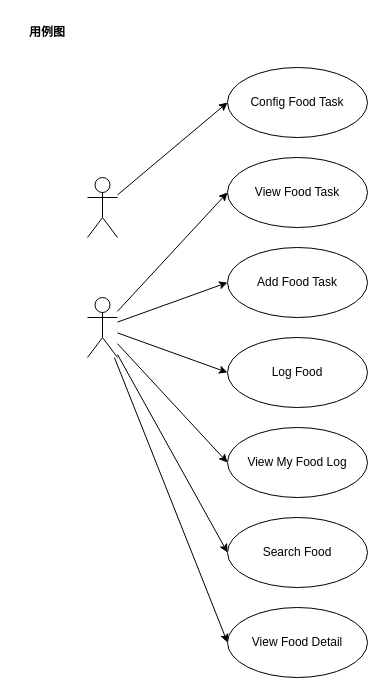
This 385x695 diagram has some shape labels left out. The shapes that lost their labels are listed below. From the top down, each one's centre as x and y in pixels, then its label:
[102,207]: Admin
[102,327]: User
